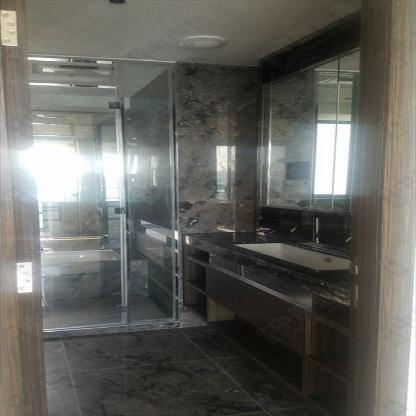Bathtub: (37, 247, 151, 301)
Toilet Sink: (232, 241, 352, 271)
Water Cubicle: (32, 55, 176, 339)
